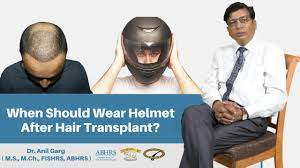helmets: (114, 14, 178, 83)
